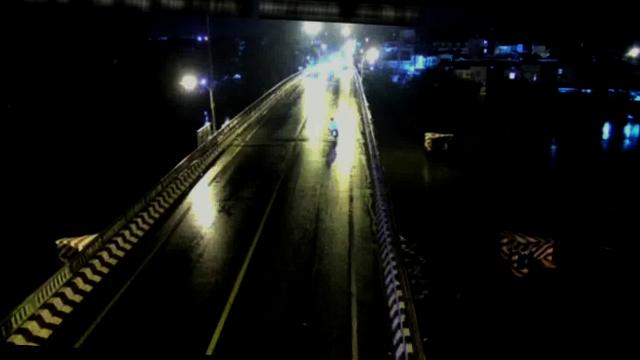Bike: (325, 116, 340, 142)
